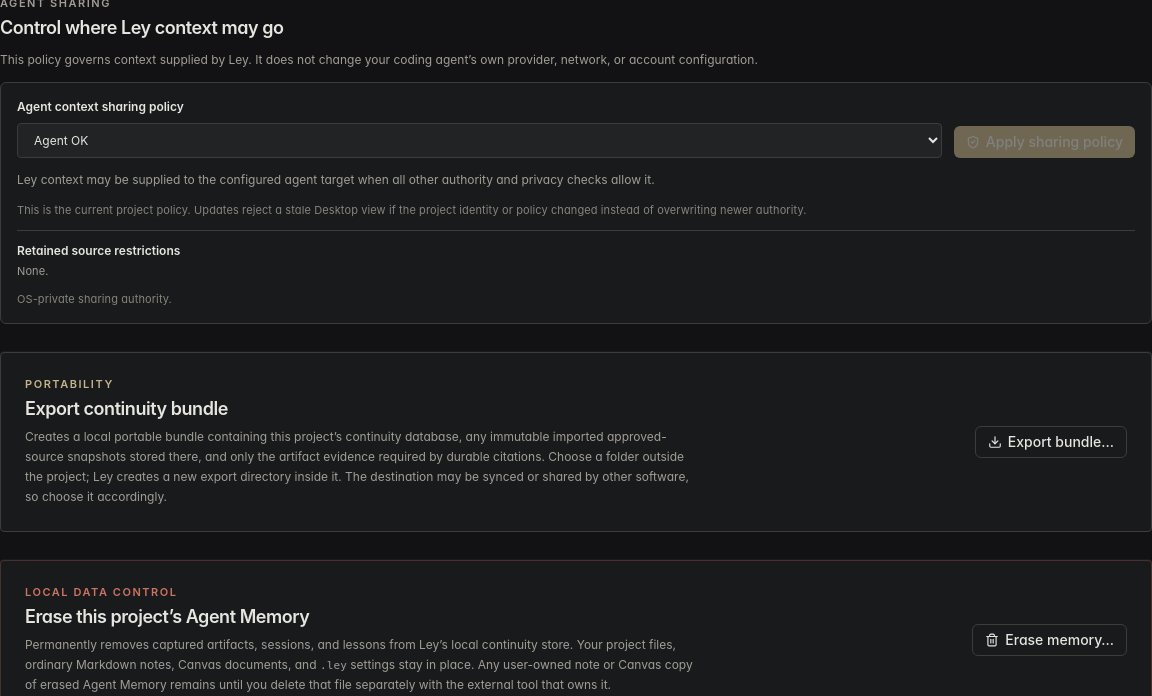
Test: CapturePrivacyPanel › exports a portable continuity bundle only after choosing a destination
(page scrolled)
Click the button "Export bundle…" at (1051, 442), box [975,426,1127,458]
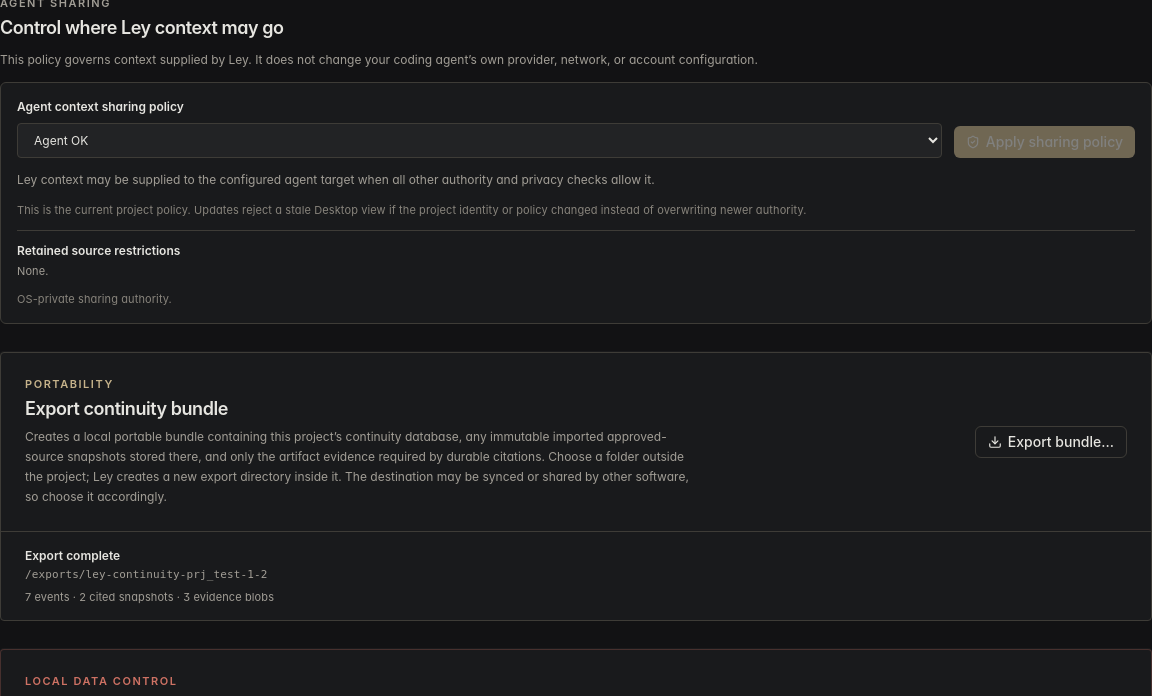
Check: the text "Export complete" is shown, box [25,548,120,563]
Check: the text "7 events · 2 cited snapshots · 3 evidence blobs" is shown, box [25,590,274,604]
